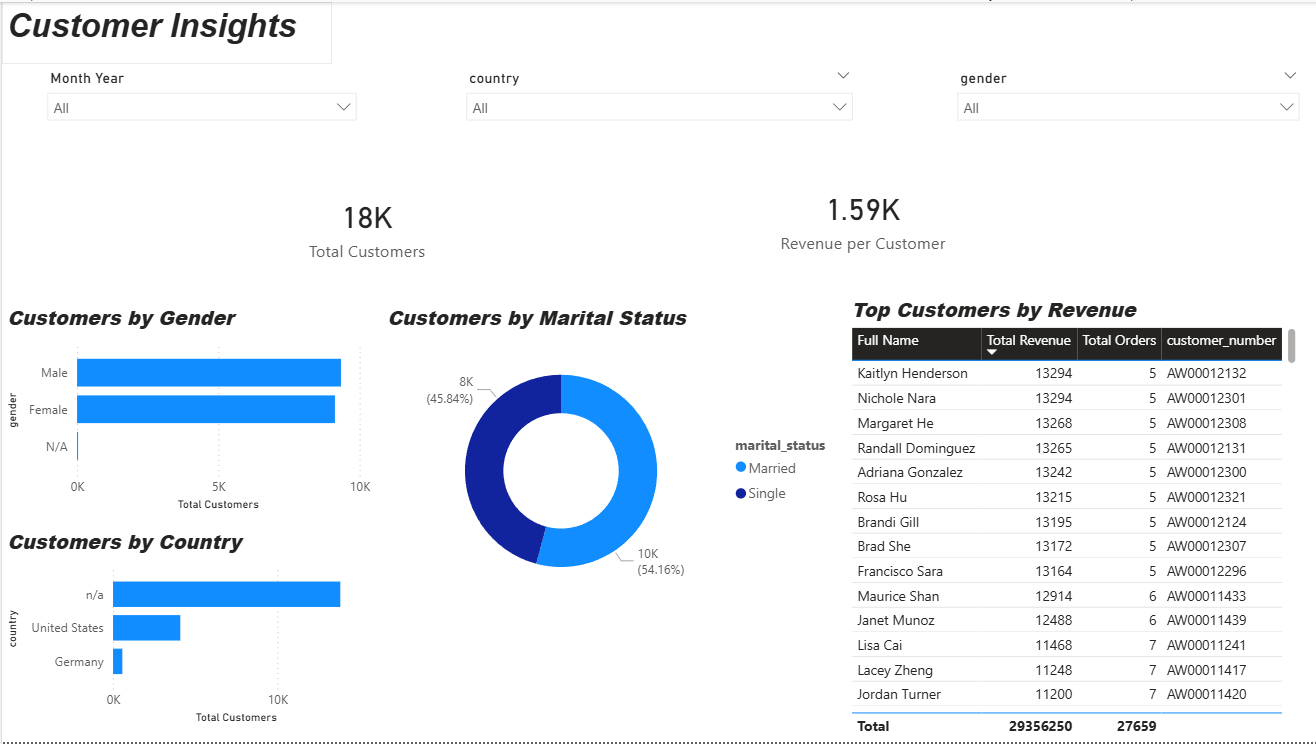

The page's visual inventory and layout, read from the dashboard file:
{"tool":"powerbi","page":{"name":"Customers Insights","canvas":[1280,720],"ordinal":1},"visuals":[{"type":"textbox","box":[0,0,321,60.3],"z":0},{"type":"card","fields":{"Values":["gold fact_sales.Revenue per Customer"]},"box":[677,135.2,321,149.8],"z":1000},{"type":"card","fields":{"Values":["gold fact_sales.Total Customers"]},"box":[194.5,143,321,149.8],"z":2000},{"type":"barChart","title":"Customers by Gender","fields":{"Category":["gold dim_customers.gender"],"Y":["gold fact_sales.Total Customers"]},"box":[0,292.8,362.8,206.2],"z":4000},{"type":"barChart","title":"Customers by Country","fields":{"Category":["gold dim_customers.country"],"Y":["gold fact_sales.Total Customers"]},"box":[0,510.6,362.8,195.5],"z":5000},{"type":"donutChart","title":"Customers by Marital Status","fields":{"Category":["gold dim_customers.marital_status"],"Y":["gold fact_sales.Total Customers"]},"box":[369.6,292.8,451.3,299.6],"z":6000},{"type":"tableEx","title":"Top Customers by Revenue","fields":{"Values":["gold dim_customers.Full Name","gold fact_sales.Total Revenue","gold fact_sales.Total Orders","gold dim_customers.customer_number"]},"box":[820.9,285,442.6,434.8],"z":7000},{"type":"slicer","fields":{"Values":["gold dim_date.Month Year"]},"box":[34,60.3,321,84.6],"z":8000},{"type":"slicer","fields":{"Values":["gold dim_customers.country"]},"box":[441.6,60.3,395.9,84.6],"z":8001},{"type":"slicer","fields":{"Values":["gold dim_customers.gender"]},"box":[919.1,60.3,353.1,68.1],"z":8002}]}

Visuals, with their boxes in screenshot pixels (x1, y1, x2, y2), scaled from the page's 1280x720 canvas onto the 1316x744 screenshot:
textbox: x1=0, y1=0, x2=330, y2=62
card - gold fact_sales.Revenue per Customer: x1=696, y1=140, x2=1026, y2=295
card - gold fact_sales.Total Customers: x1=200, y1=148, x2=530, y2=303
"Customers by Gender" barChart: x1=0, y1=303, x2=373, y2=516
"Customers by Country" barChart: x1=0, y1=528, x2=373, y2=730
"Customers by Marital Status" donutChart: x1=380, y1=303, x2=844, y2=612
"Top Customers by Revenue" tableEx: x1=844, y1=295, x2=1299, y2=743
slicer - gold dim_date.Month Year: x1=35, y1=62, x2=365, y2=150
slicer - gold dim_customers.country: x1=454, y1=62, x2=861, y2=150
slicer - gold dim_customers.gender: x1=945, y1=62, x2=1308, y2=133
